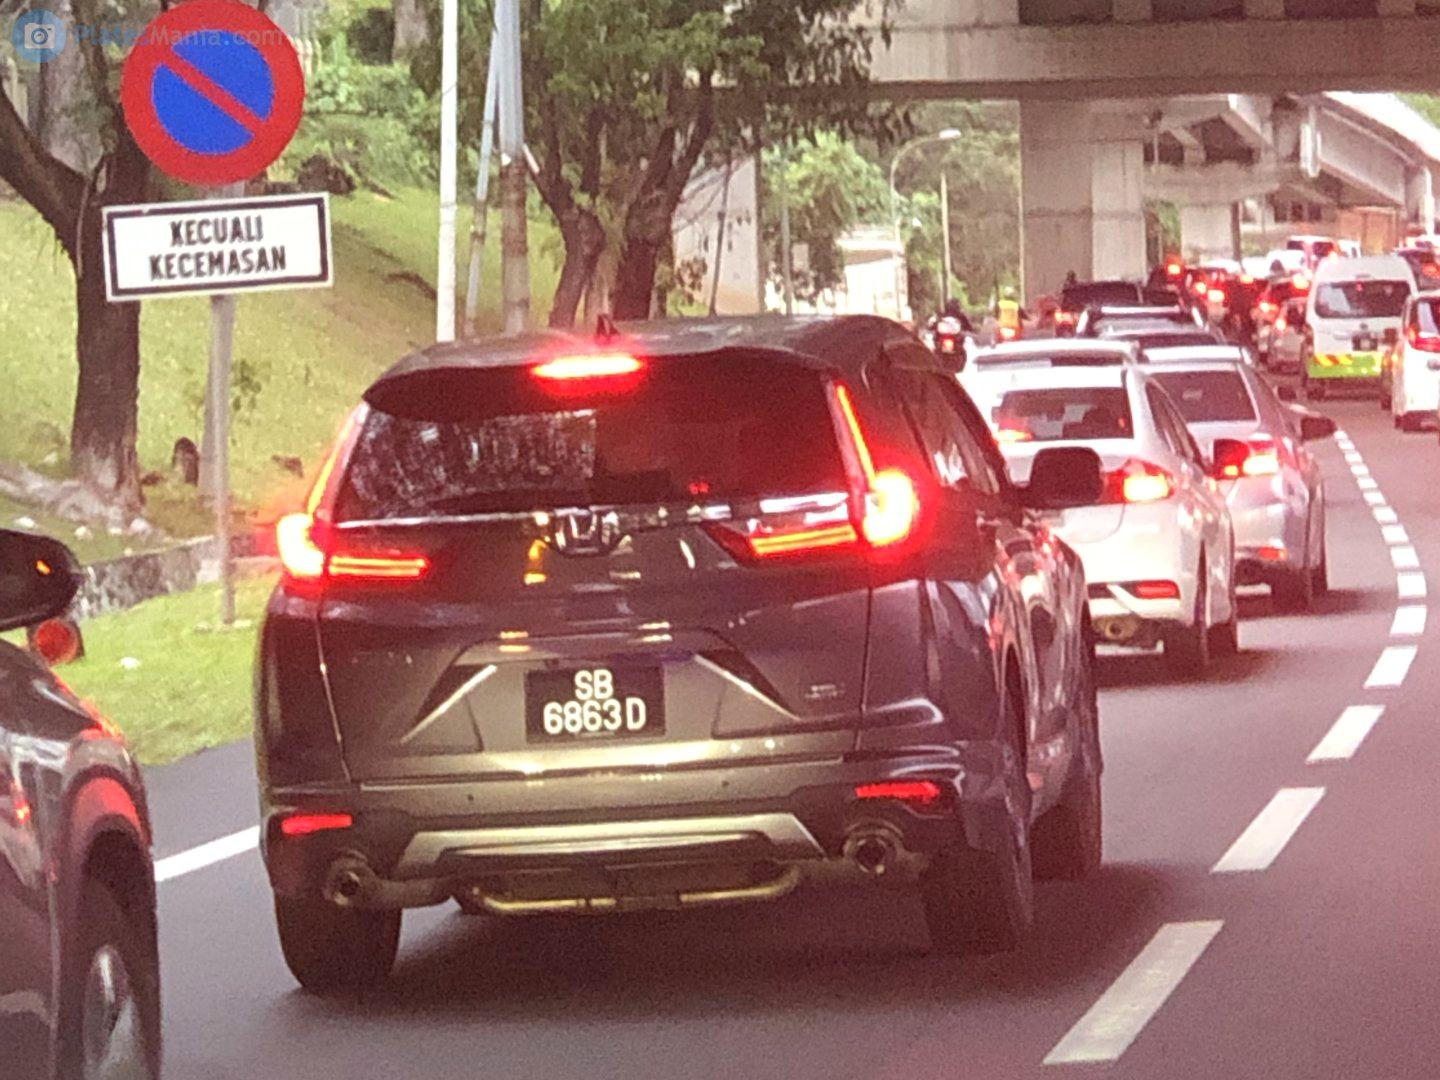License Plate: (531, 668, 663, 741)
